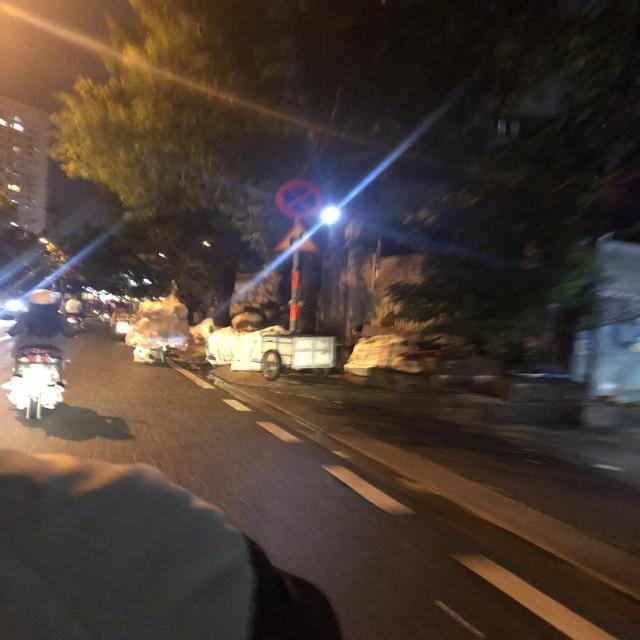Bien bao cam dung xe va do xe: (271, 177, 325, 218)
Bien bao nhieu cho ngoat nguy hiem lien tiep: (272, 221, 321, 255)
